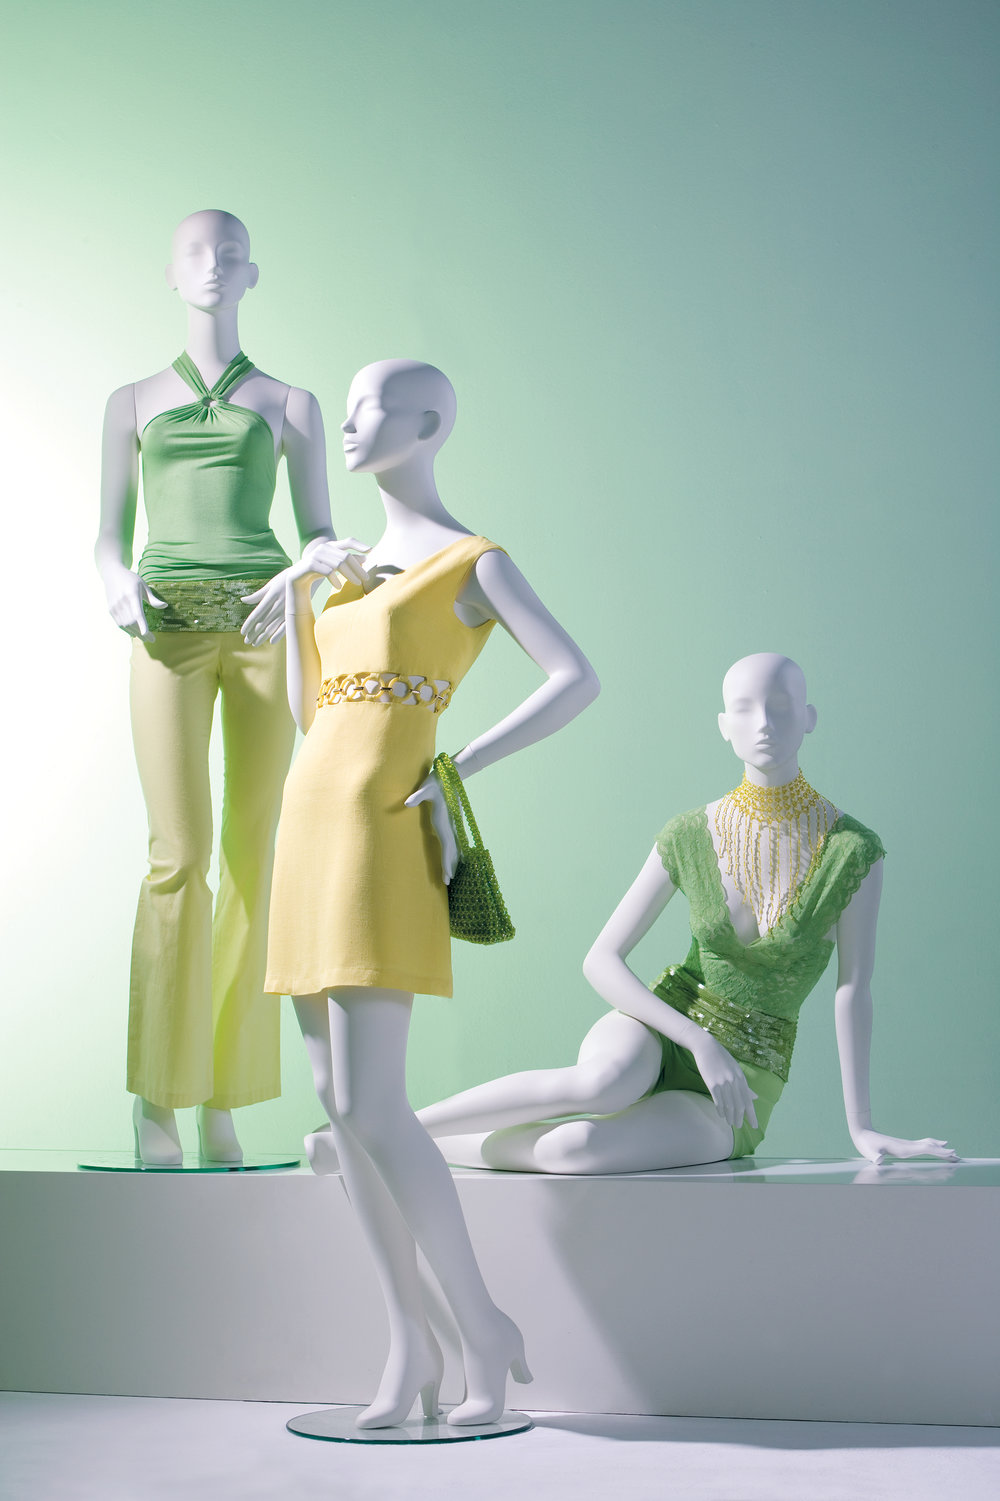person-like: (249, 345, 606, 1442), (290, 637, 972, 1186), (77, 196, 352, 1177)
